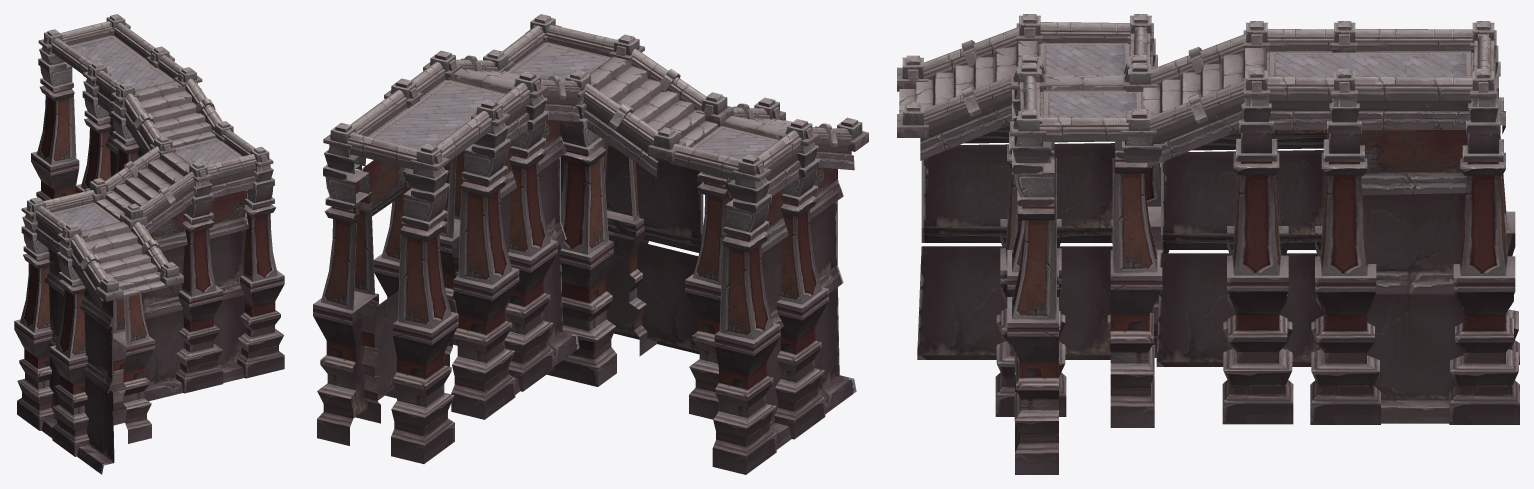
The picture shows the model from 3 angles, left to right: view 1: azimuth 30°, elevation 25°; view 2: azimuth 150°, elevation 25°; view 3: azimuth 270°, elevation 25°; orthographic projection. The views are drawn at different scales.
Parts seen in each view (by area): view 1: 52095_15; view 2: 52095_15; view 3: 52095_15.
Boxes of the visible parts, <box> form: 52095_15: <box>14,14,284,474</box>; 52095_15: <box>313,14,868,474</box>; 52095_15: <box>897,14,1519,474</box>.
Bounding box in the file's own units: 1363 × 1650 × 2131.
